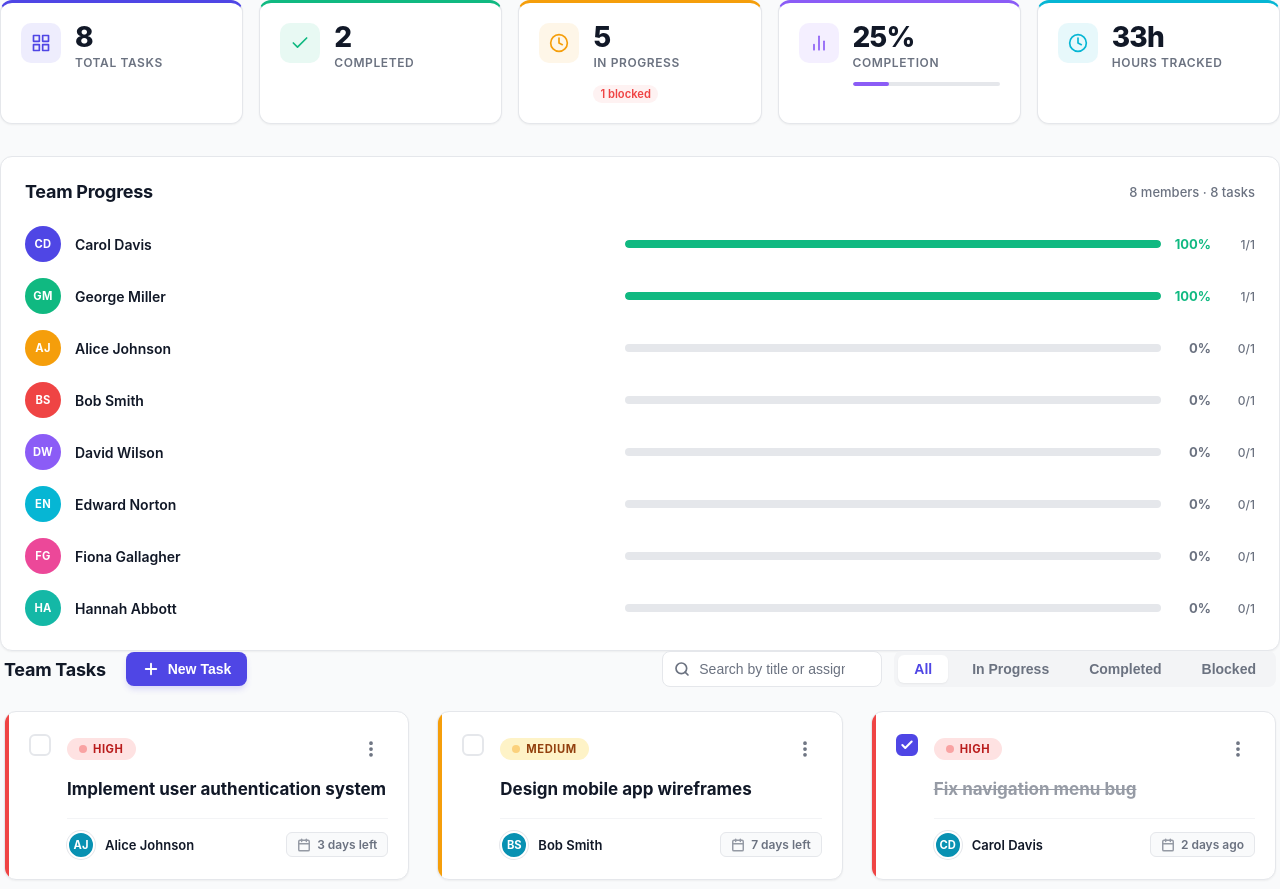
Scenario: TeamProgressChart – integration with TaskListView › new task assignee appears in chart
Click the button "New Task" at (186, 669), box [126,652,247,686]
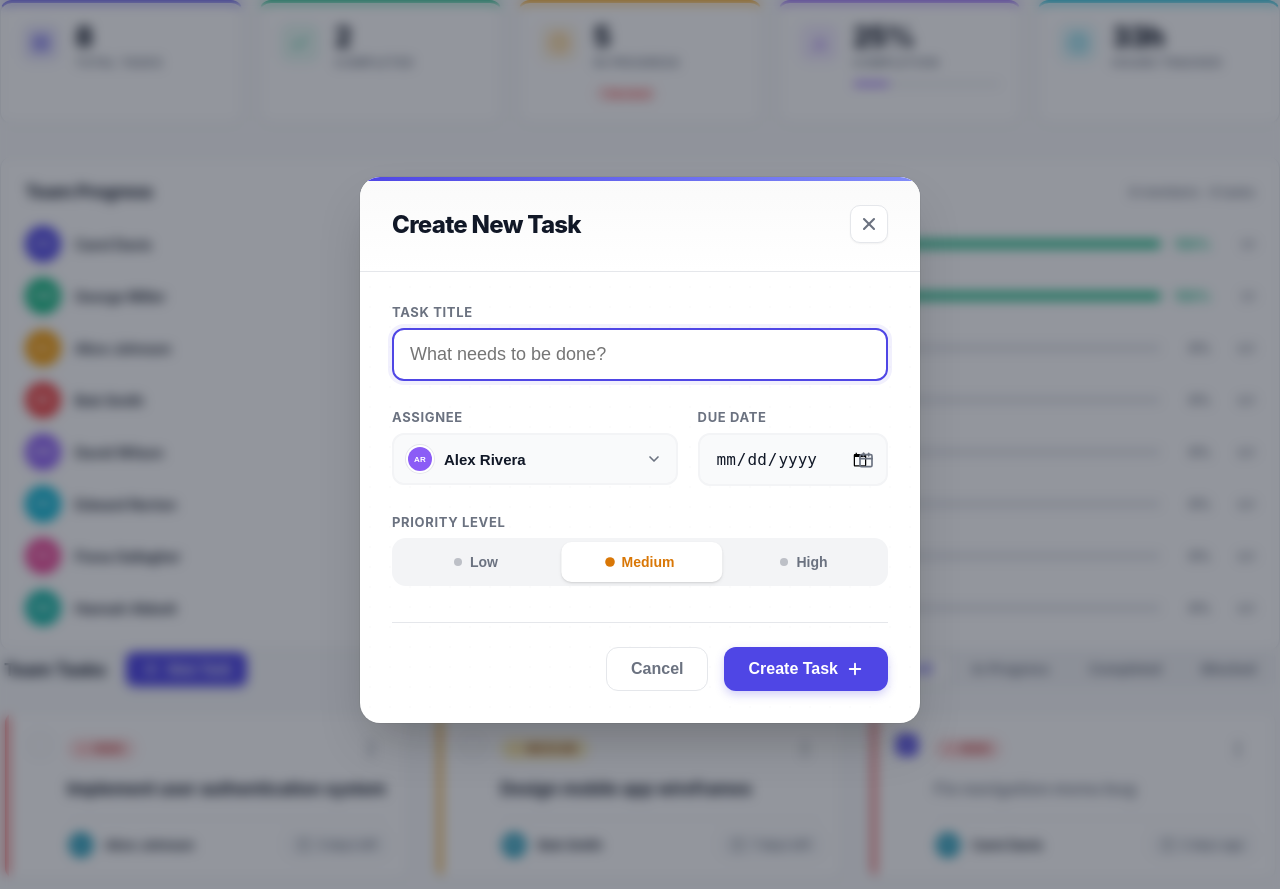
Type "New work item" into the field with placeholder "What needs to be done?" at (640, 354), box [392,328,888,381]
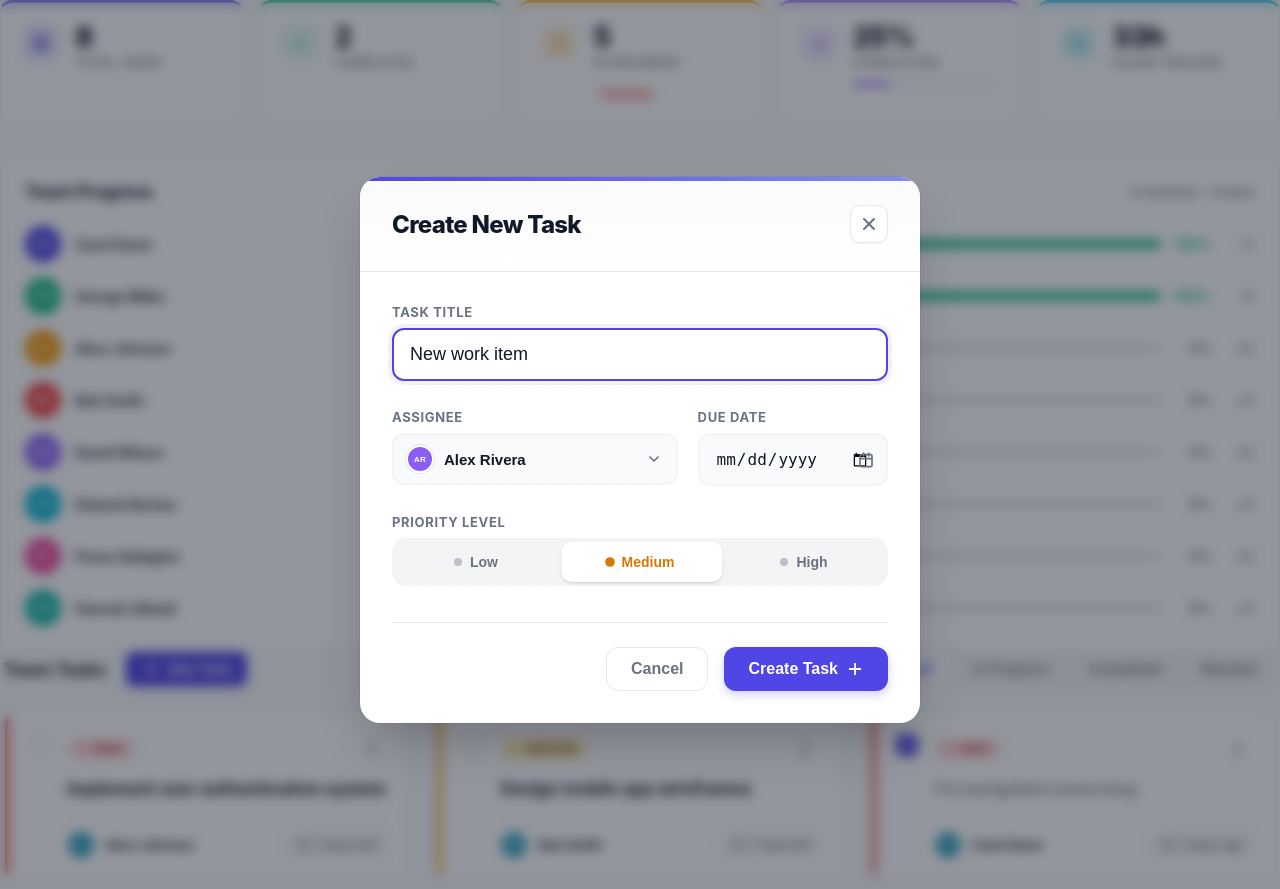
Click the button "Create Task" at (806, 669), box [724,647,888,691]
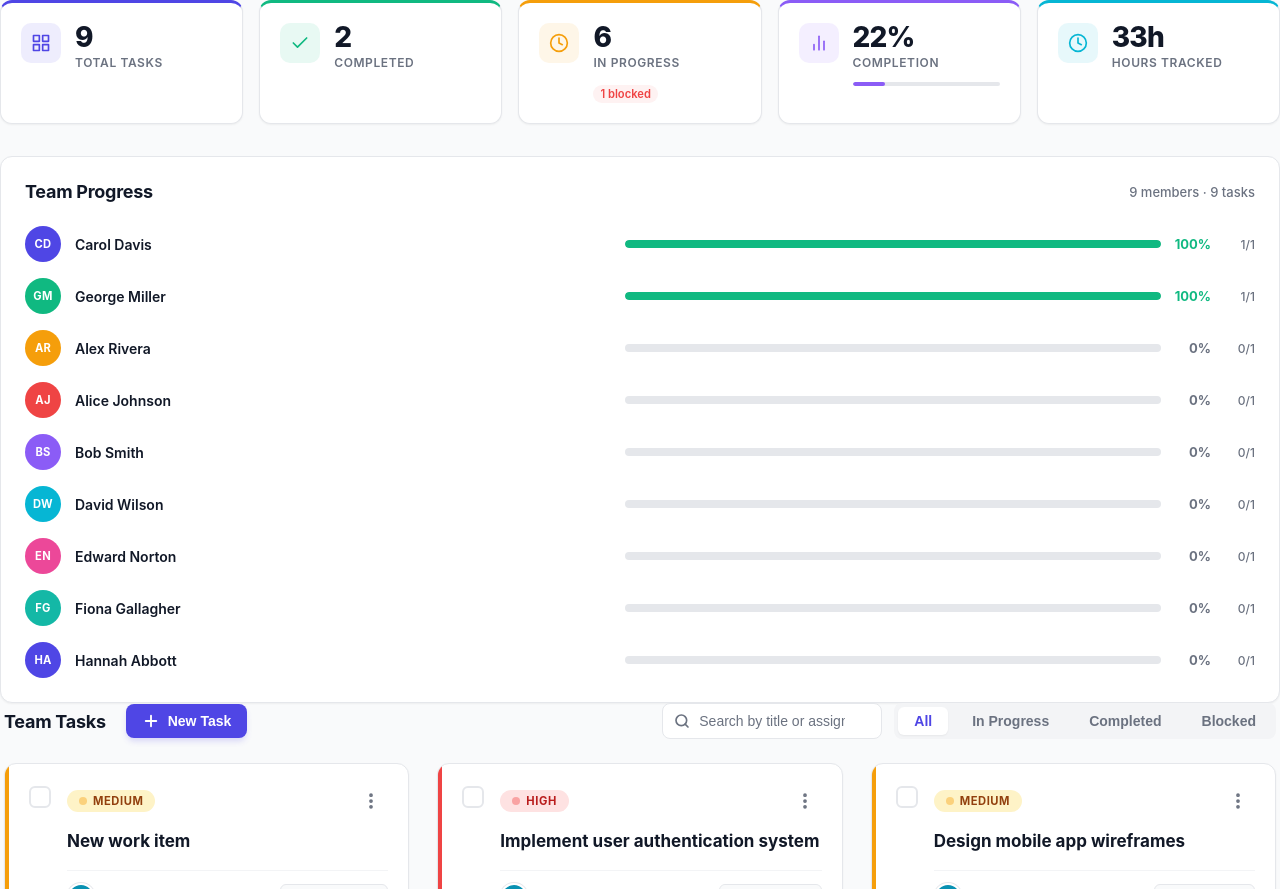
Expected: the list item "AR Alex Rivera 0% 0/1" is shown, [25,330,1255,366]
